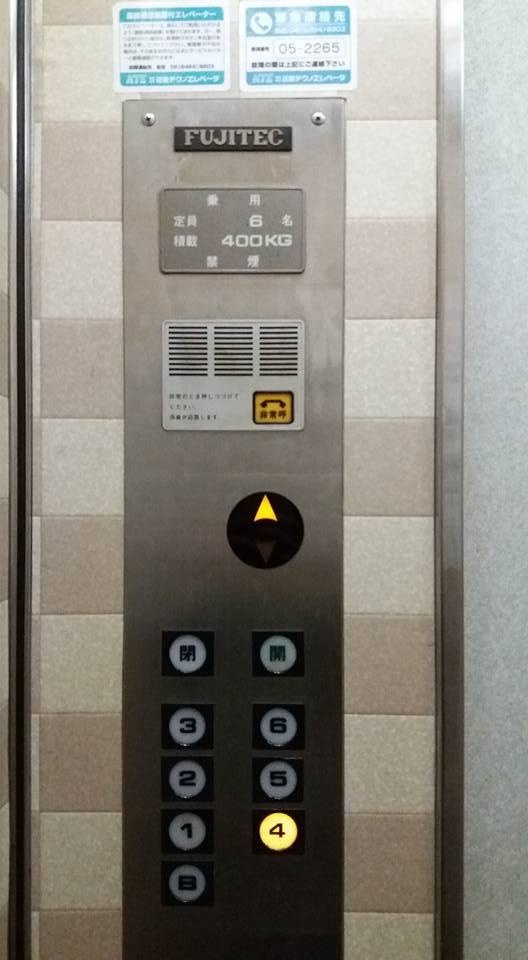1: (159, 805, 217, 856)
2: (159, 752, 217, 805)
3: (159, 700, 217, 753)
4: (250, 804, 307, 857)
5: (250, 752, 307, 803)
6: (250, 701, 307, 751)
B: (159, 857, 217, 907)
call: (251, 388, 295, 424)
led: (224, 488, 307, 569)
text: (158, 629, 217, 680), (250, 628, 306, 680)
